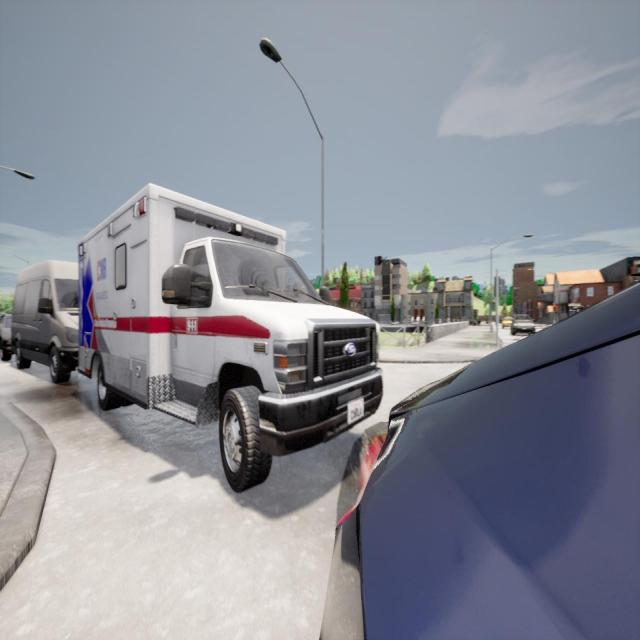Vehicle: (321, 279, 640, 640), (76, 182, 381, 495), (9, 261, 79, 381), (0, 300, 15, 368), (511, 314, 535, 335), (502, 314, 514, 330), (469, 318, 481, 326)
traffic_light: (554, 304, 556, 312)
